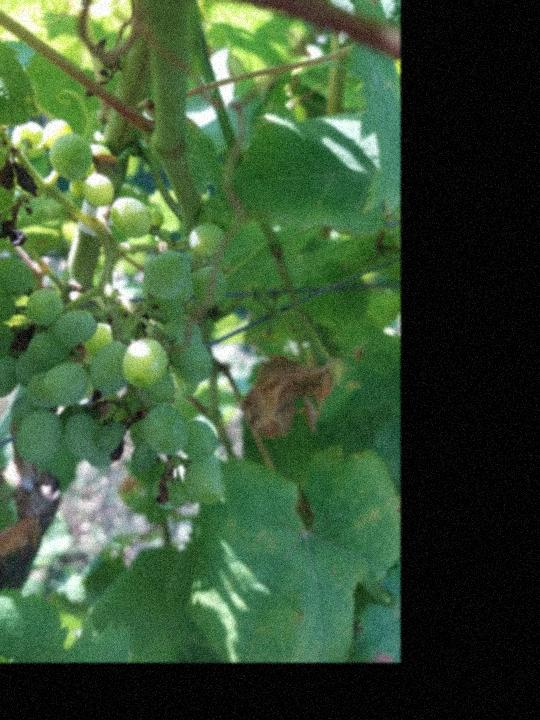grape: (0, 120, 232, 517)
